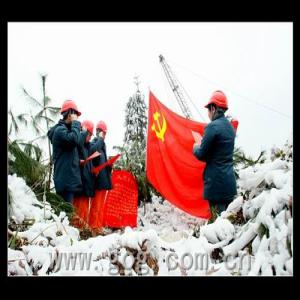red: (204, 91, 231, 121), (60, 100, 81, 127), (80, 120, 95, 144), (96, 120, 108, 141)
